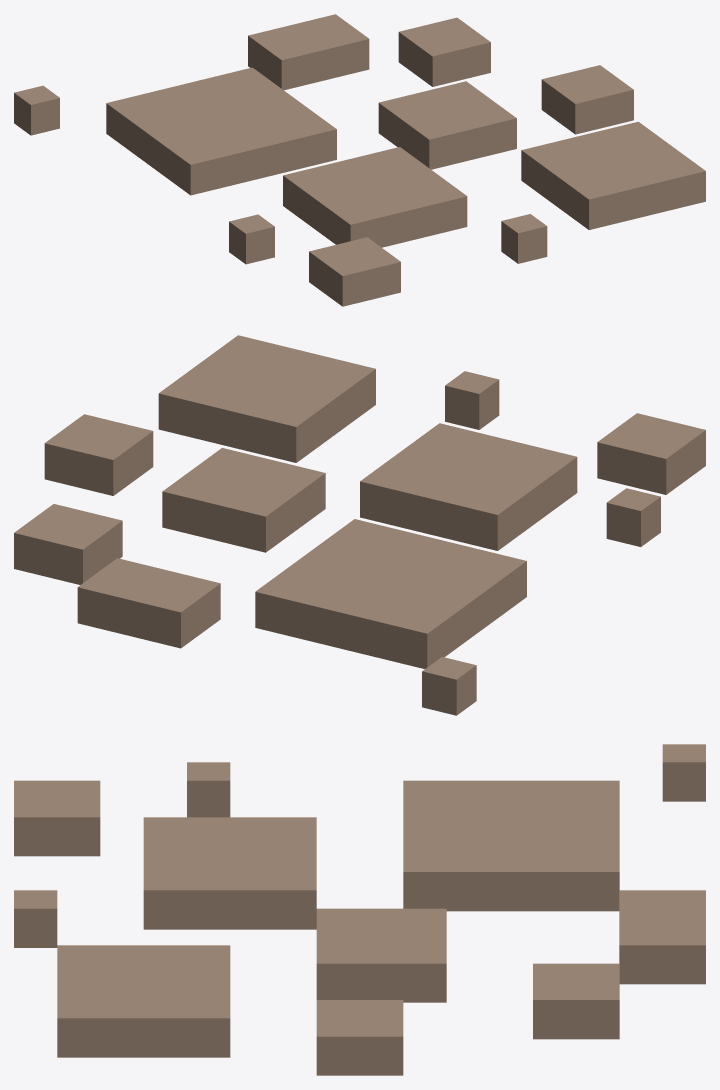
The model's file is brick_tiles.glb.
3 renders of one model, top to bottom at view 1: azimuth 30°, elevation 25°; view 2: azimuth 150°, elevation 25°; view 3: azimuth 270°, elevation 25°, orthographic. The views are drawn at different scales.
Visible parts, largest first — view 1: broken_bricks_block; view 2: broken_bricks_block; view 3: broken_bricks_block.
Boxes of the visible parts, x1,y1,x2,y2 form: broken_bricks_block: (14, 14, 705, 306); broken_bricks_block: (14, 335, 705, 715); broken_bricks_block: (14, 744, 705, 1075).
Size of the model in its own units: 1.6 by 0.1 by 1.6.
